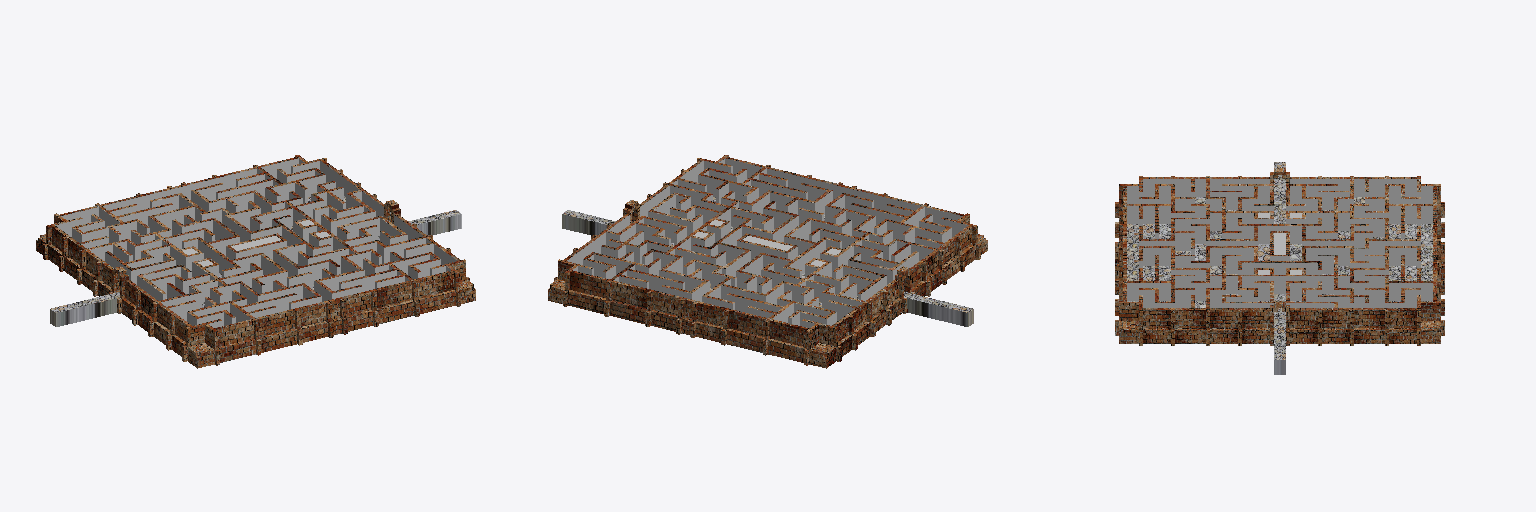
The picture shows the model from 3 angles: view 1: azimuth 30°, elevation 25°; view 2: azimuth 150°, elevation 25°; view 3: azimuth 270°, elevation 25°; orthographic projection.
Parts seen in each view (by area): view 1: maze2; view 2: maze2; view 3: maze2.
Part boxes in pixels (x1,y1,x2,y2): maze2: (36,155,475,368); maze2: (548,155,987,368); maze2: (1115,162,1444,374).
Size of the model in its own units: 118 by 11 by 83.
4 materials, 2 textured.